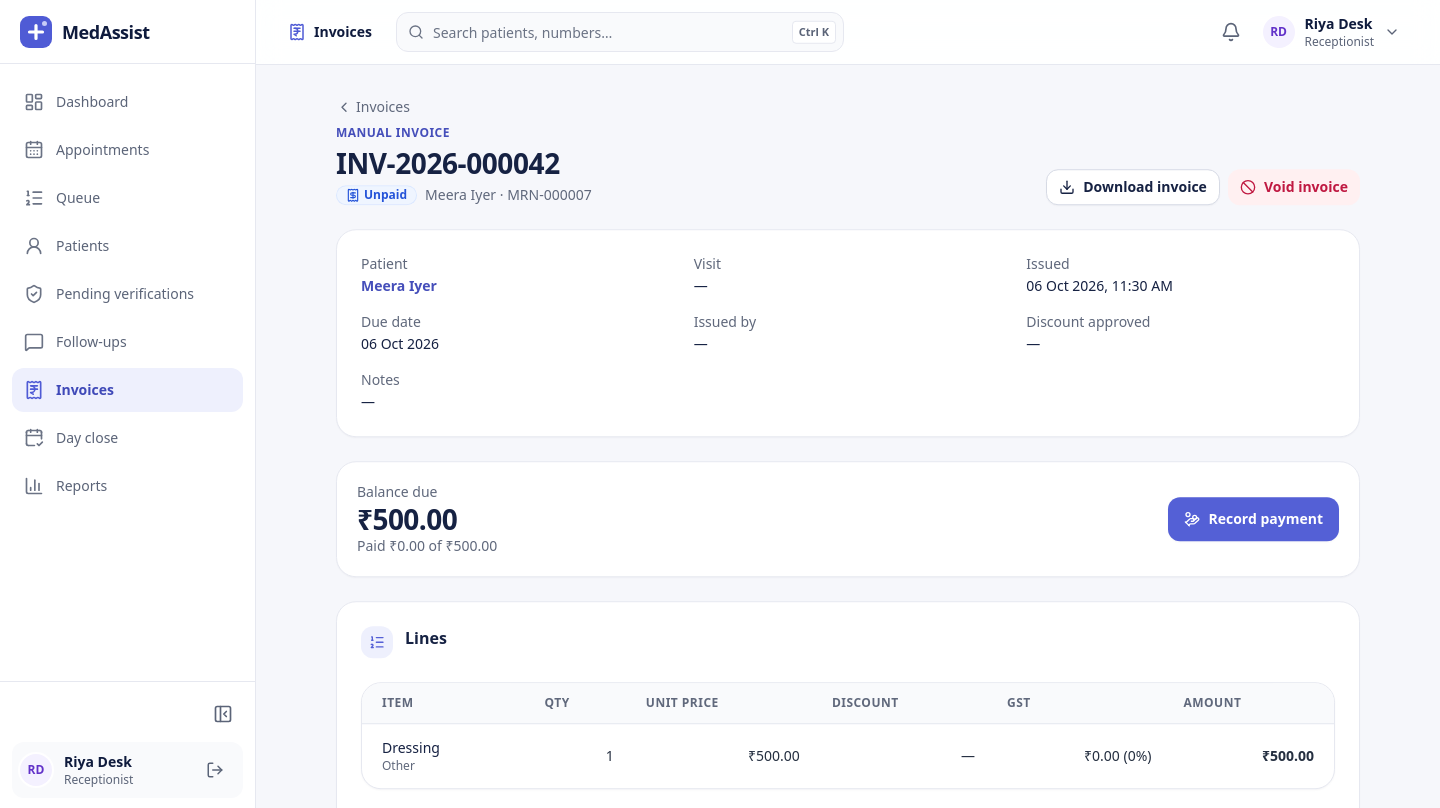
payments on an issued invoice › a payment on an invoice paid in full meanwhile (409, D203) says so
Click the button "Record payment" at (1254, 519), box x1=1168 y1=497 x2=1339 y2=541
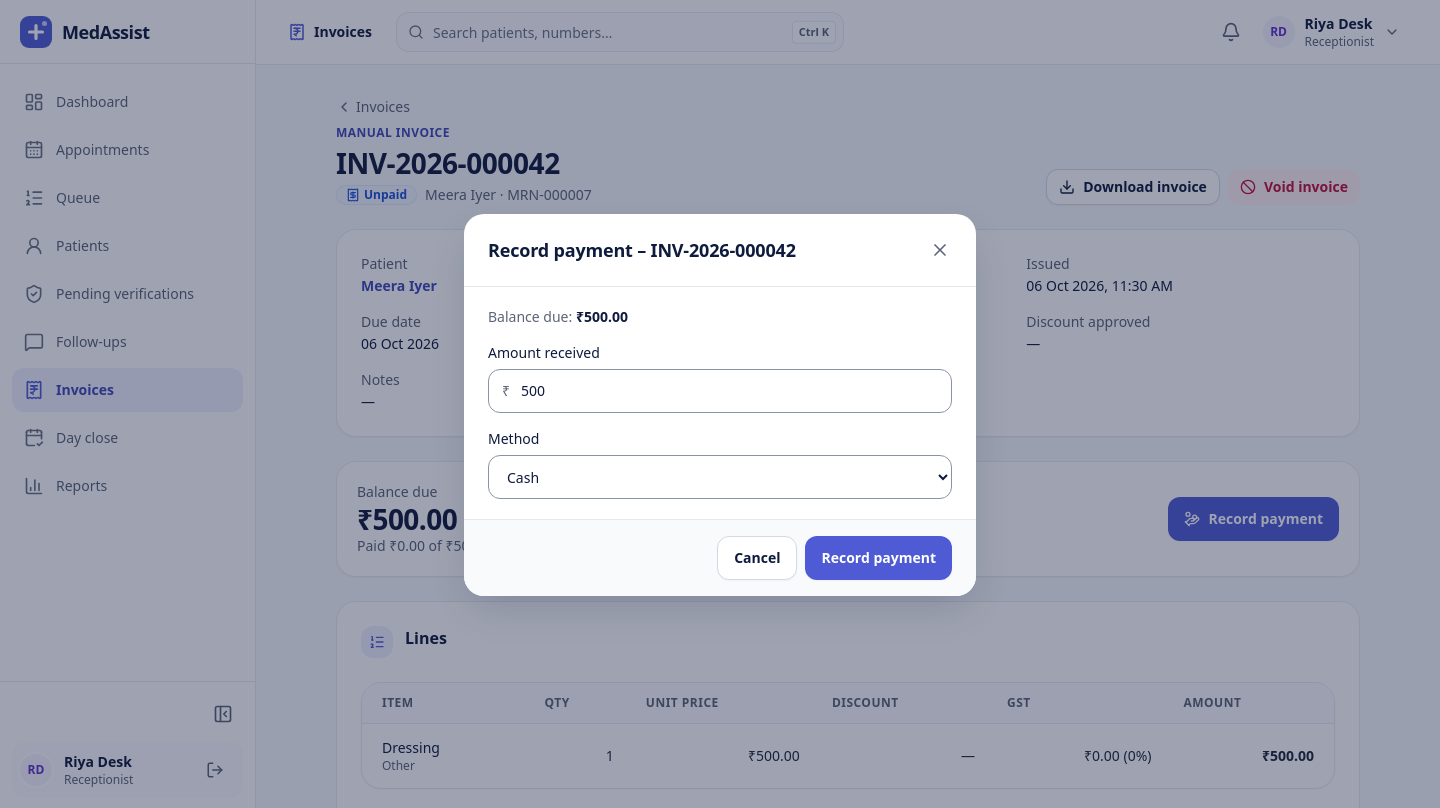
Click the button "Record payment" at (879, 558), box x1=806 y1=536 x2=952 y2=580
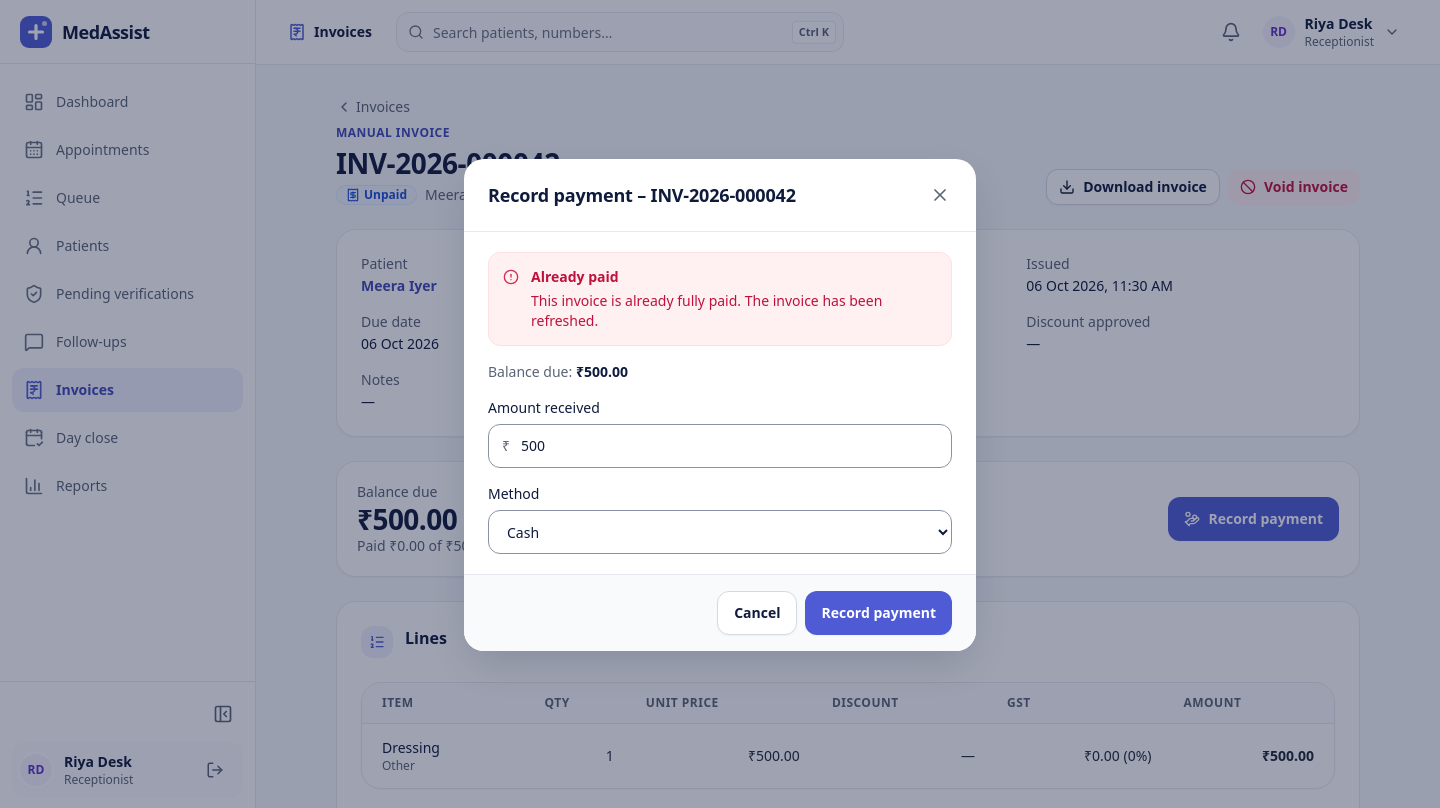
Result: the text "Already paid" is shown at x1=531 y1=267 x2=619 y2=286
Result: the text "already fully paid" is shown at x1=531 y1=291 x2=882 y2=330
